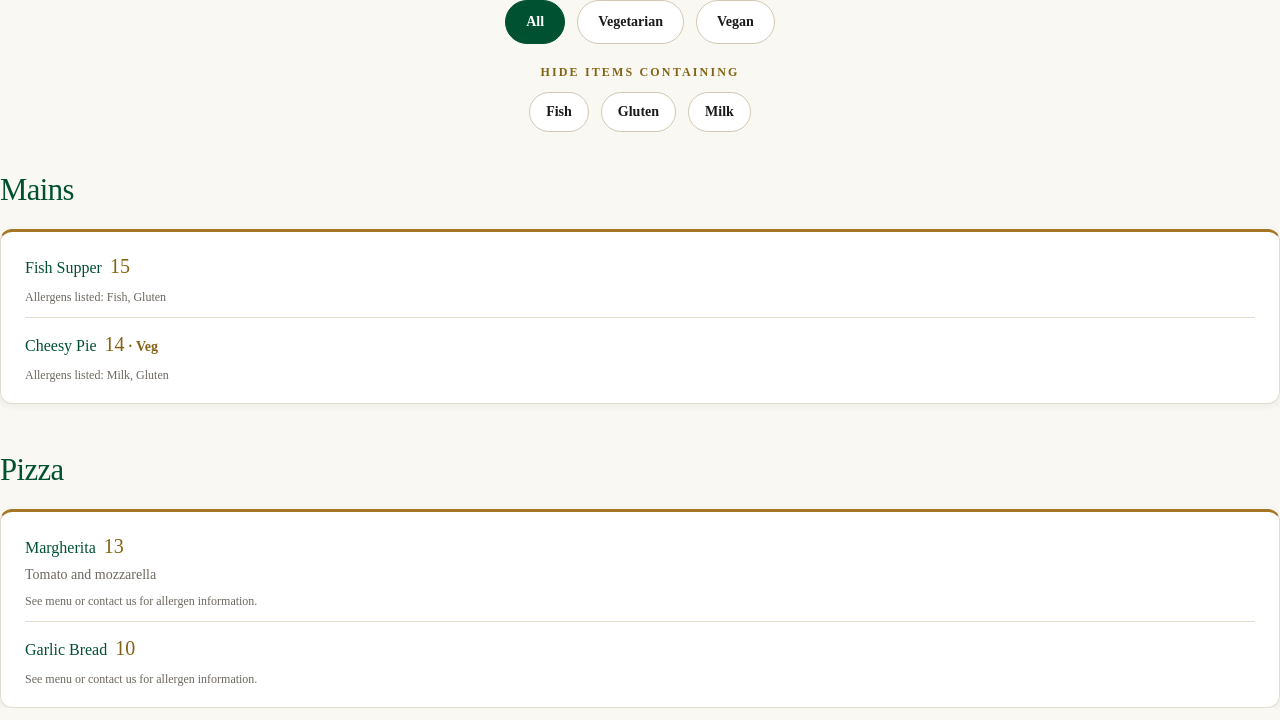
Test: allergen filter: dishes with no allergen data › with Milk chosen, a dish with an empty allergen list is not in the main filtered list
This screenshot has width=1280, height=720.
Click the button "Milk". click: (720, 112)
box: left=688, top=92, right=751, bottom=132
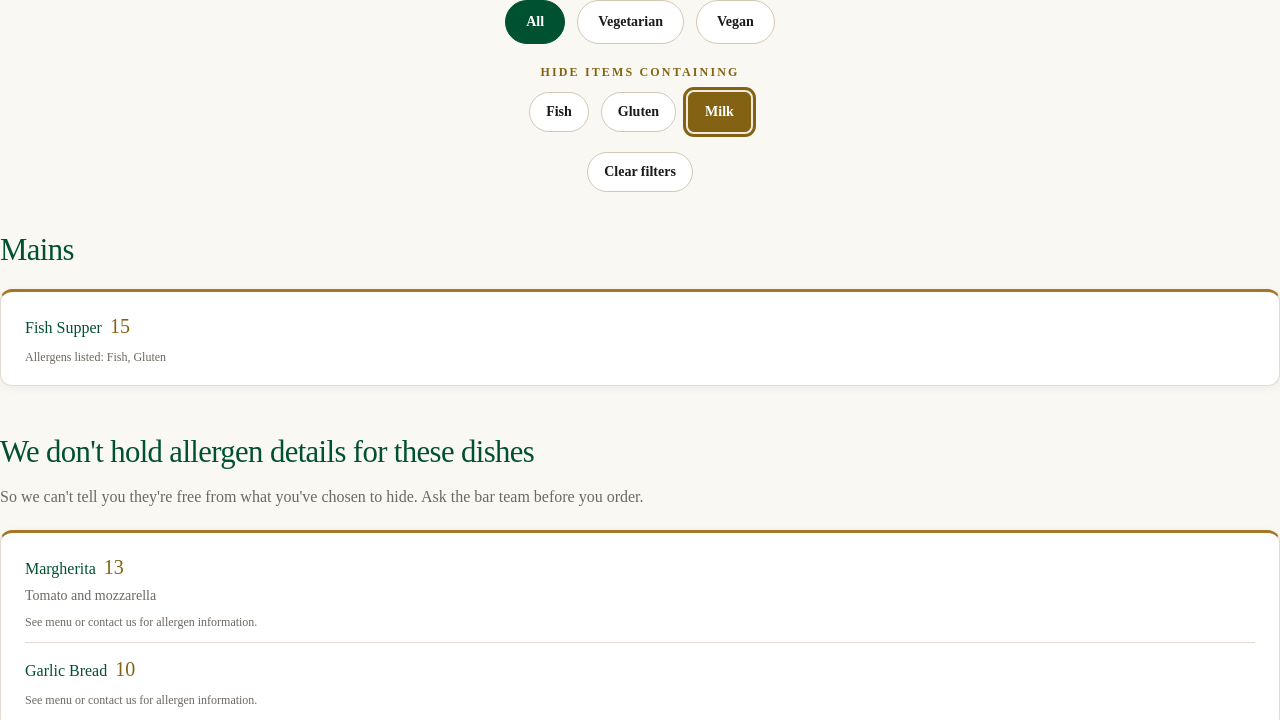
expect the text "Fish Supper" is shown: met, box left=25, top=319, right=102, bottom=336
expect the text "Cheesy Pie" is gone: met
expect the heading "Pizza" is gone: met
